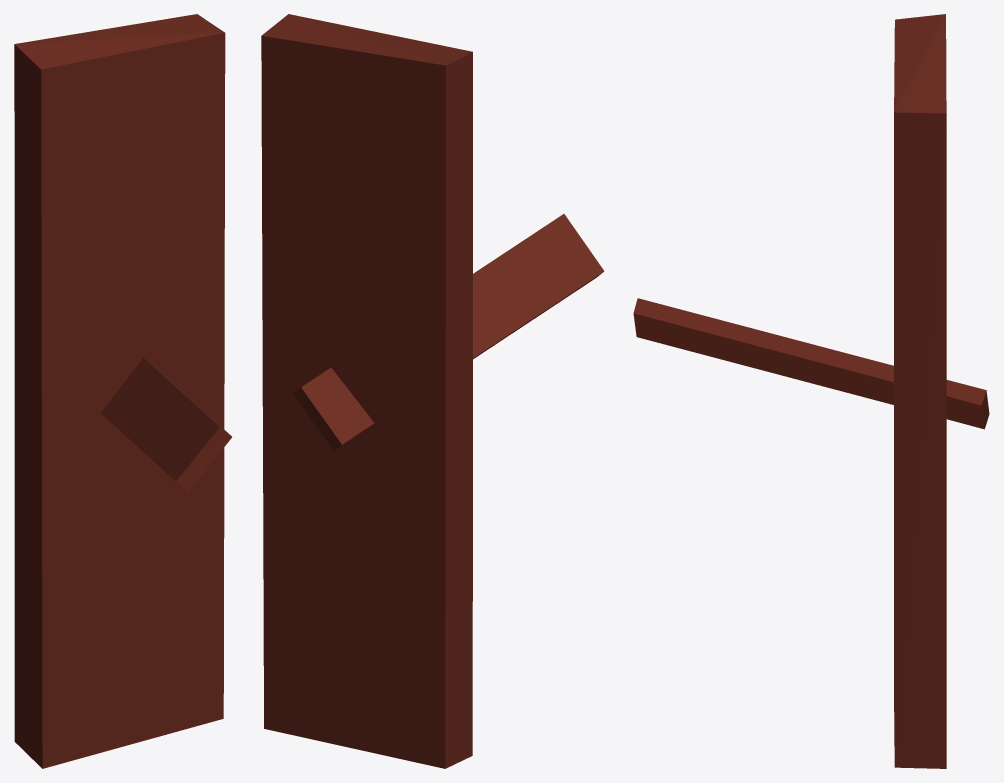
The picture shows the model from 3 angles, left to right: view 1: azimuth 30°, elevation 25°; view 2: azimuth 150°, elevation 25°; view 3: azimuth 270°, elevation 25°; orthographic projection. The views are drawn at different scales.
Visible parts, largest first — view 1: 563_Cube.2269; view 2: 563_Cube.2269; view 3: 563_Cube.2269.
Boxes of the visible parts, x1=… form: 563_Cube.2269: x1=14, y1=14, x2=231, y2=768; 563_Cube.2269: x1=261, y1=14, x2=604, y2=768; 563_Cube.2269: x1=633, y1=14, x2=989, y2=768.
Bounding box in the file's own units: 3.34 × 12.25 × 5.87.
